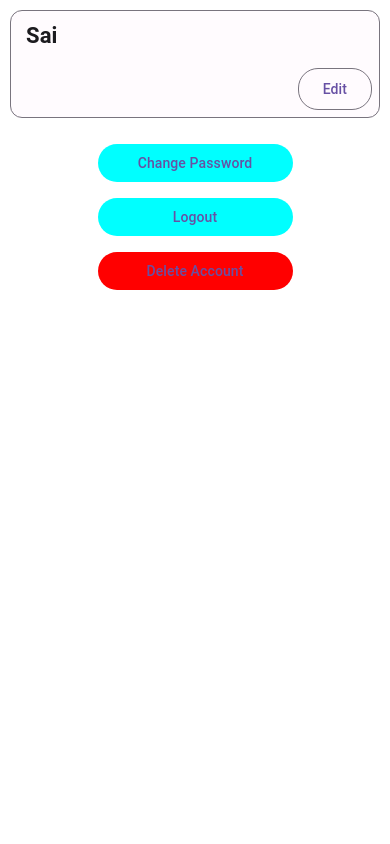
Test case: 'Edit' button press results in 'Edit the values accordingly' showing up
The image size is (390, 844).
Get the Edit button and press it
Click the button "Edit": (335,89) [299,69,371,109]
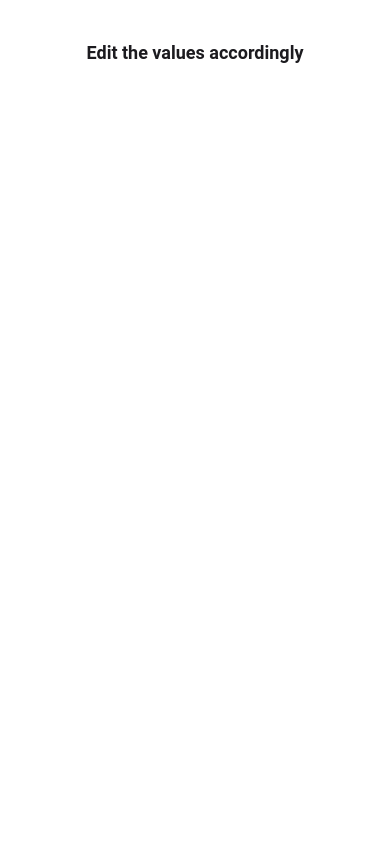
Expected: the text "Edit the values accordingly" is shown, [82,42,308,63]
